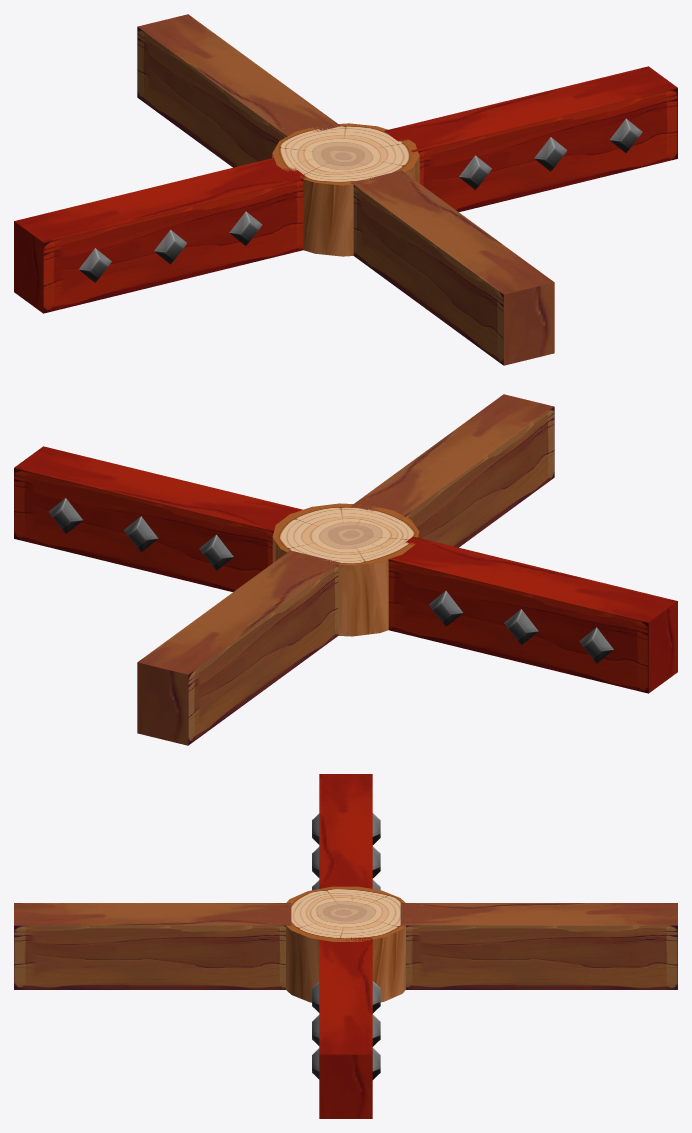
File: four_blade_double_02.fbx
3 views of the same model, one above another, from view 1: azimuth 30°, elevation 25°; view 2: azimuth 150°, elevation 25°; view 3: azimuth 270°, elevation 25° (orthographic). The views are drawn at different scales.
Parts seen in each view (by area): view 1: Blade_10, Blade_9, Blade_8, Blade_7, wood_center_16; view 2: Blade_10, Blade_9, Blade_7, Blade_8, wood_center_16; view 3: Blade_7, Blade_8, Blade_9, wood_center_16, Blade_10.
Boxes of the visible parts, x1,y1,x2,y2 form: Blade_10: [14, 158, 306, 313]; Blade_9: [384, 66, 677, 211]; Blade_8: [351, 170, 554, 365]; Blade_7: [137, 14, 340, 167]; wood_center_16: [272, 123, 419, 256]; Blade_10: [388, 536, 677, 693]; Blade_9: [14, 446, 302, 591]; Blade_7: [137, 550, 340, 745]; Blade_8: [351, 394, 554, 547]; wood_center_16: [272, 503, 419, 636]; Blade_7: [400, 903, 677, 989]; Blade_8: [14, 903, 291, 989]; Blade_9: [312, 937, 380, 1118]; wood_center_16: [286, 886, 405, 1002]; Blade_10: [312, 774, 380, 890].
Bounding box in the file's own units: 374 × 40 × 374.
